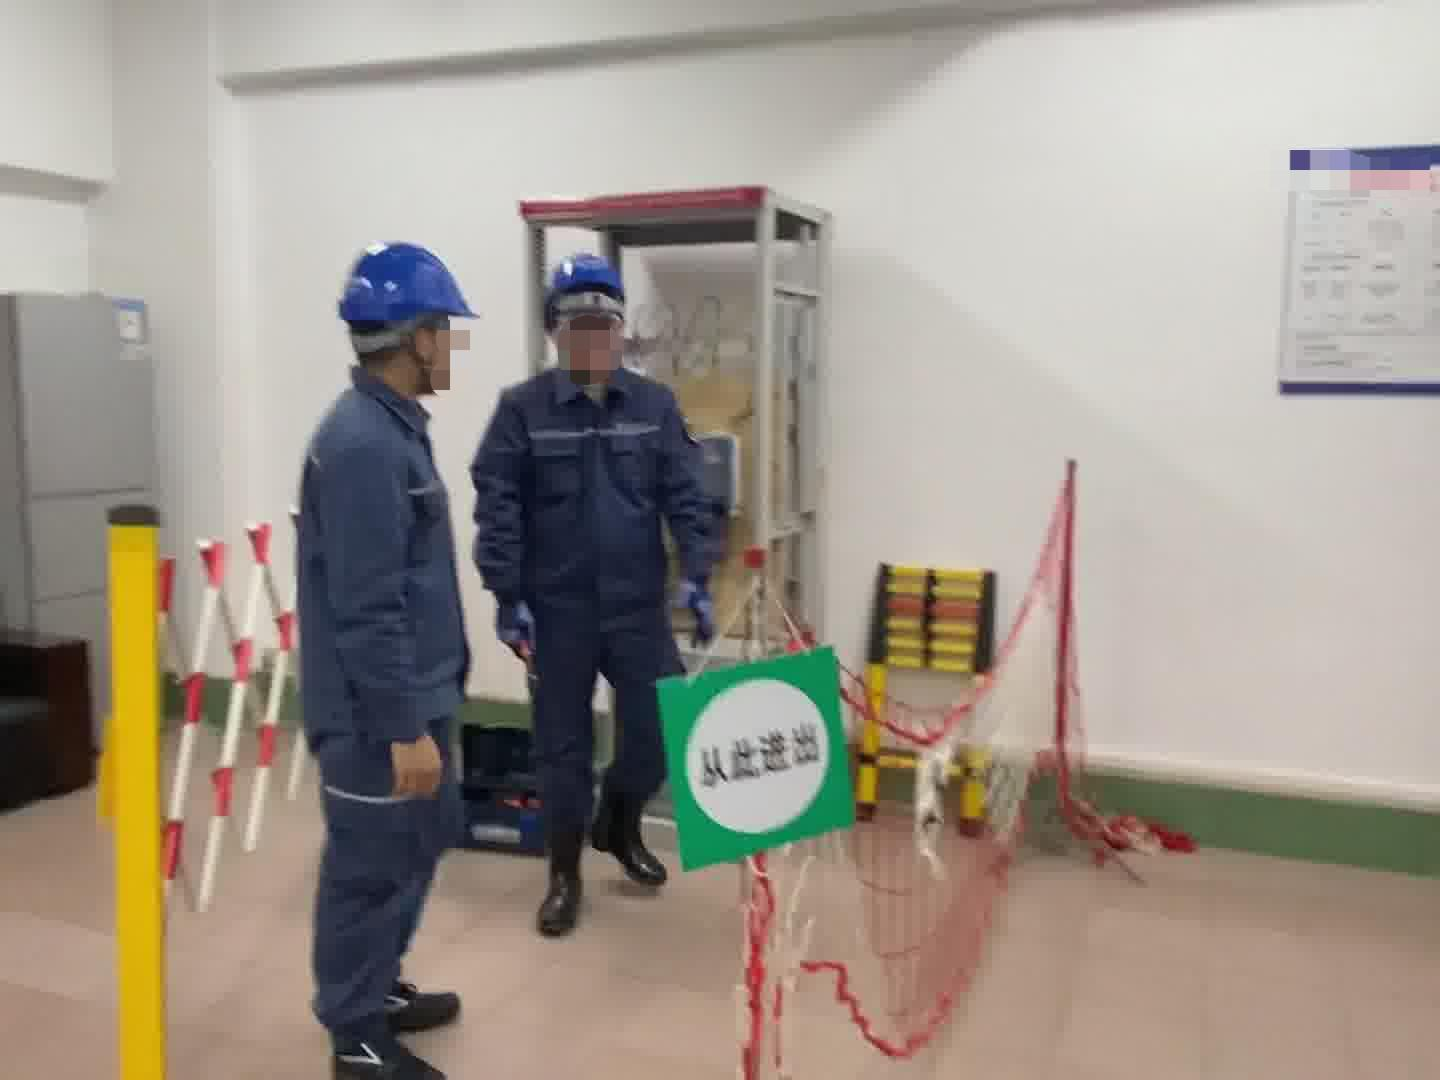halt: (338, 243, 483, 400)
inear: (395, 318, 446, 380)
